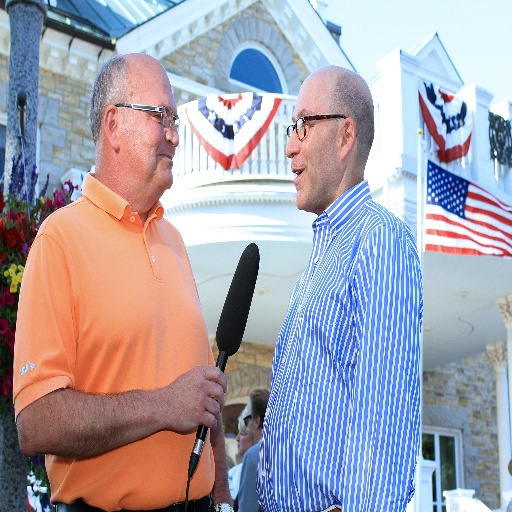hand: (153, 368, 228, 447)
